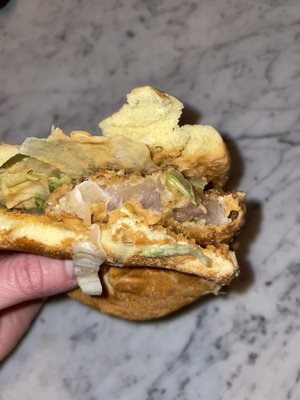pizza: (0, 253, 78, 314)
